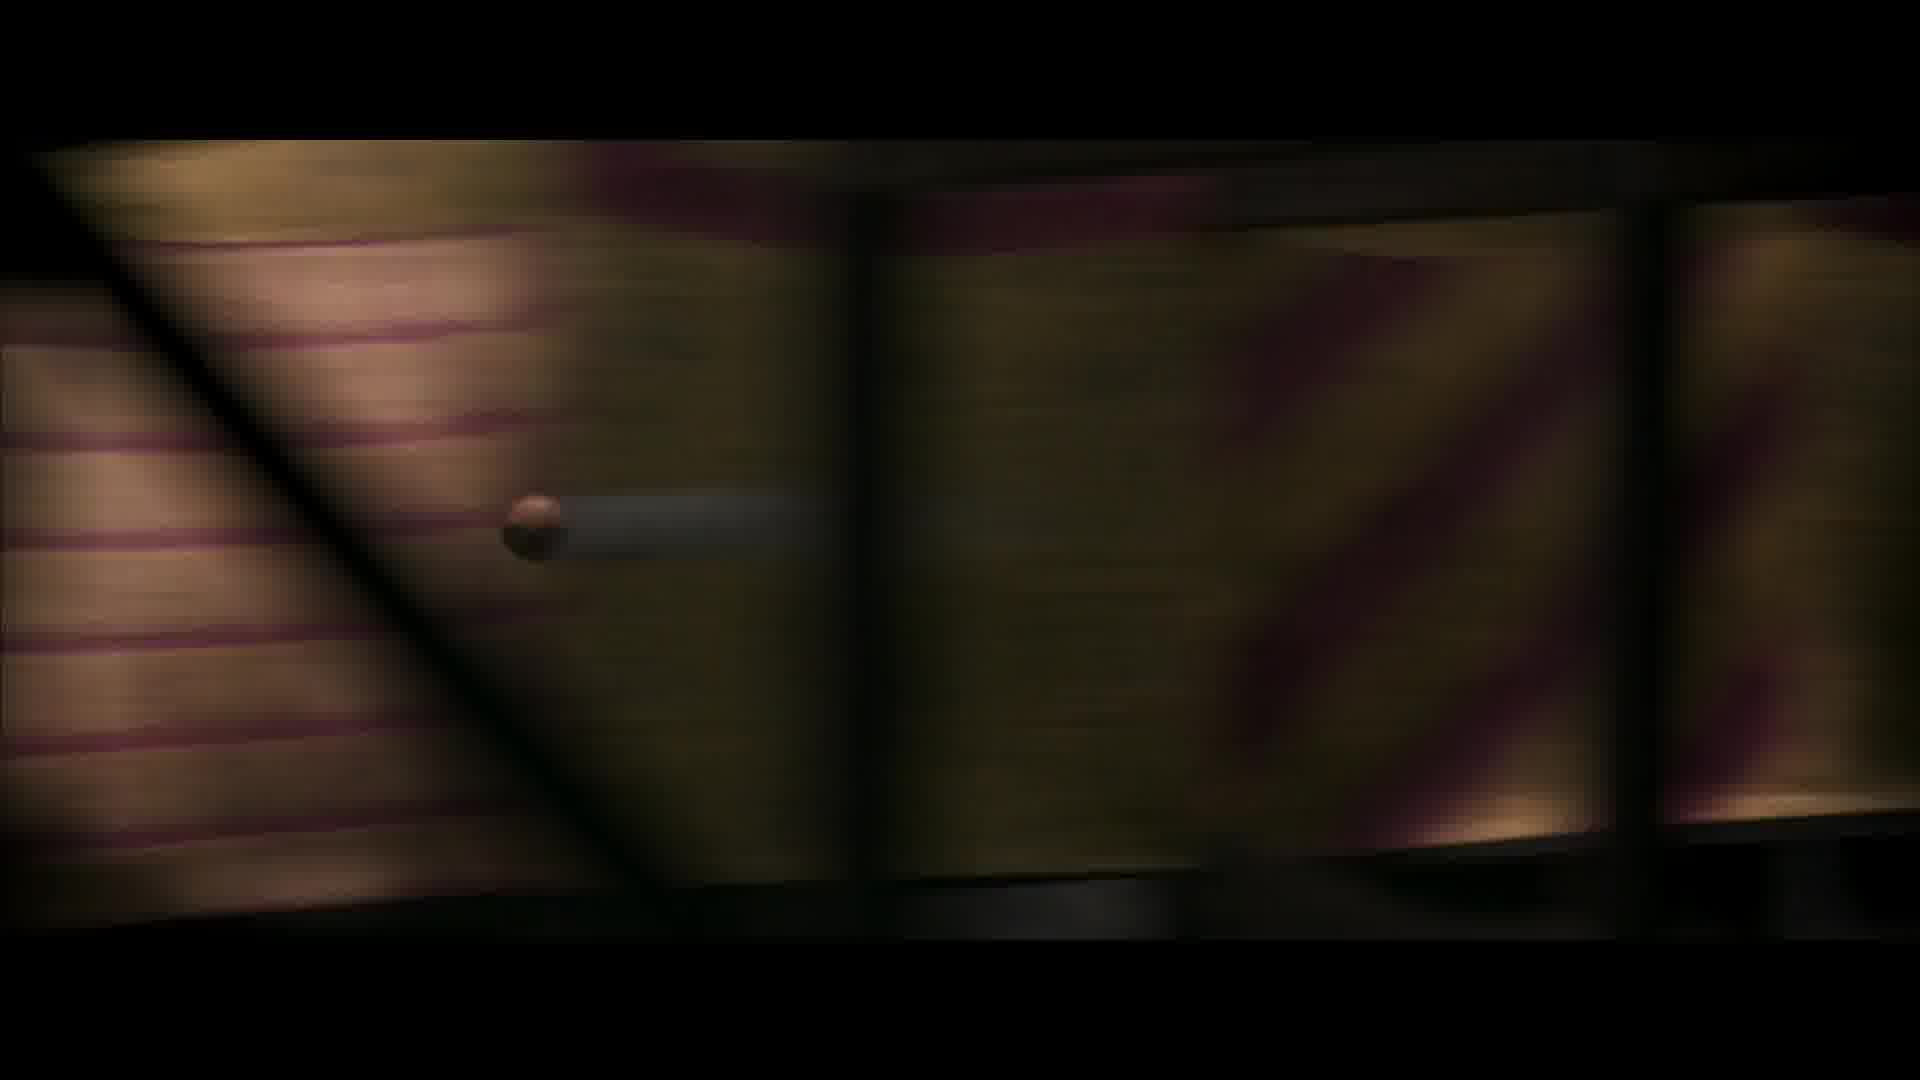bludger: (498, 493, 571, 566)
